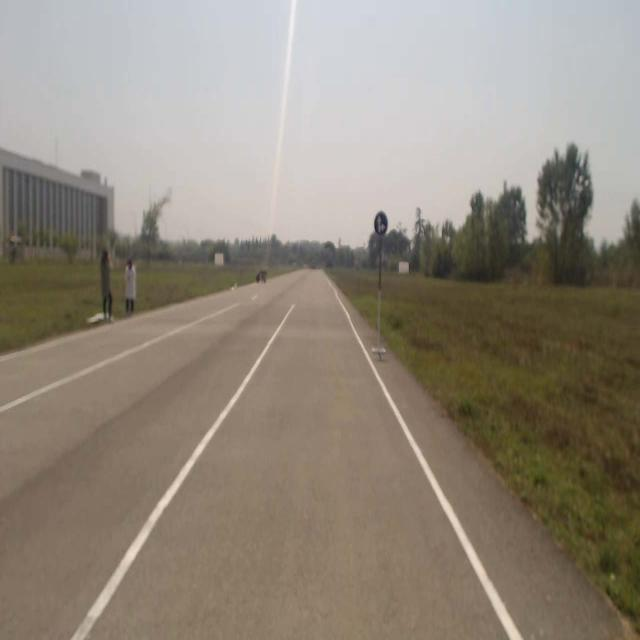ilerisag: (374, 210, 388, 233)
